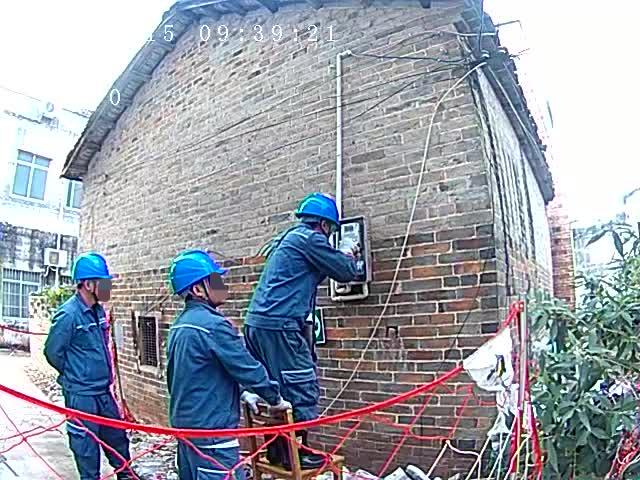halt: (173, 251, 231, 305), (74, 257, 116, 303), (300, 196, 343, 239)
inear: (189, 282, 215, 306), (80, 281, 103, 302)
